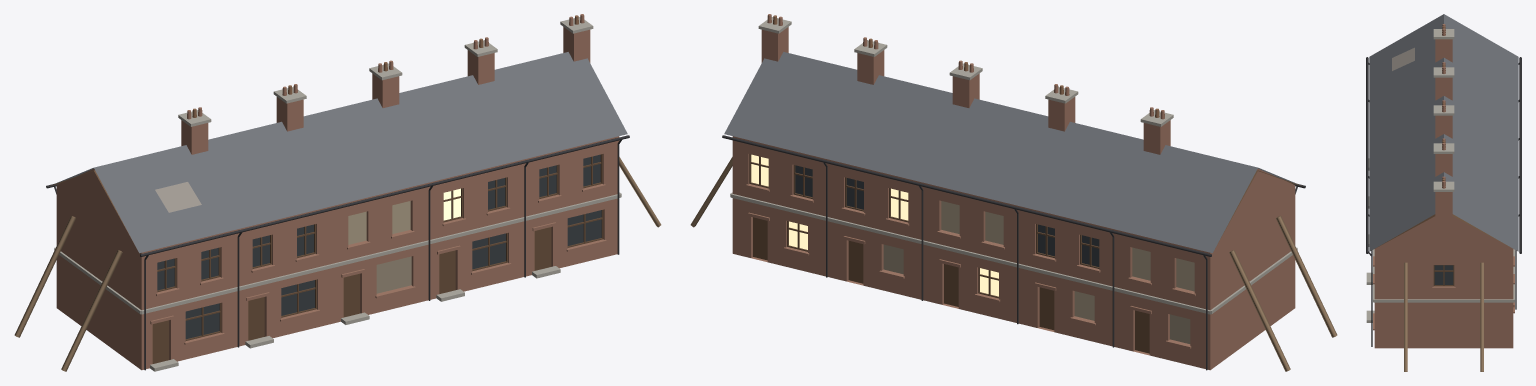
The model's file is prole_terrace_b.glb.
3 views of the same model, side by side, from view 1: azimuth 30°, elevation 25°; view 2: azimuth 150°, elevation 25°; view 3: azimuth 270°, elevation 25° (orthographic). The views are drawn at different scales.
Visible parts, largest first — view 1: prole_terrace_b; view 2: prole_terrace_b; view 3: prole_terrace_b.
Boxes of the visible parts, box(x1,y1,x2,y2) form: prole_terrace_b: box(14, 14, 661, 371); prole_terrace_b: box(690, 14, 1337, 371); prole_terrace_b: box(1366, 14, 1521, 371).
Size of the model in its own units: 32.57 by 10.8 by 8.98.
